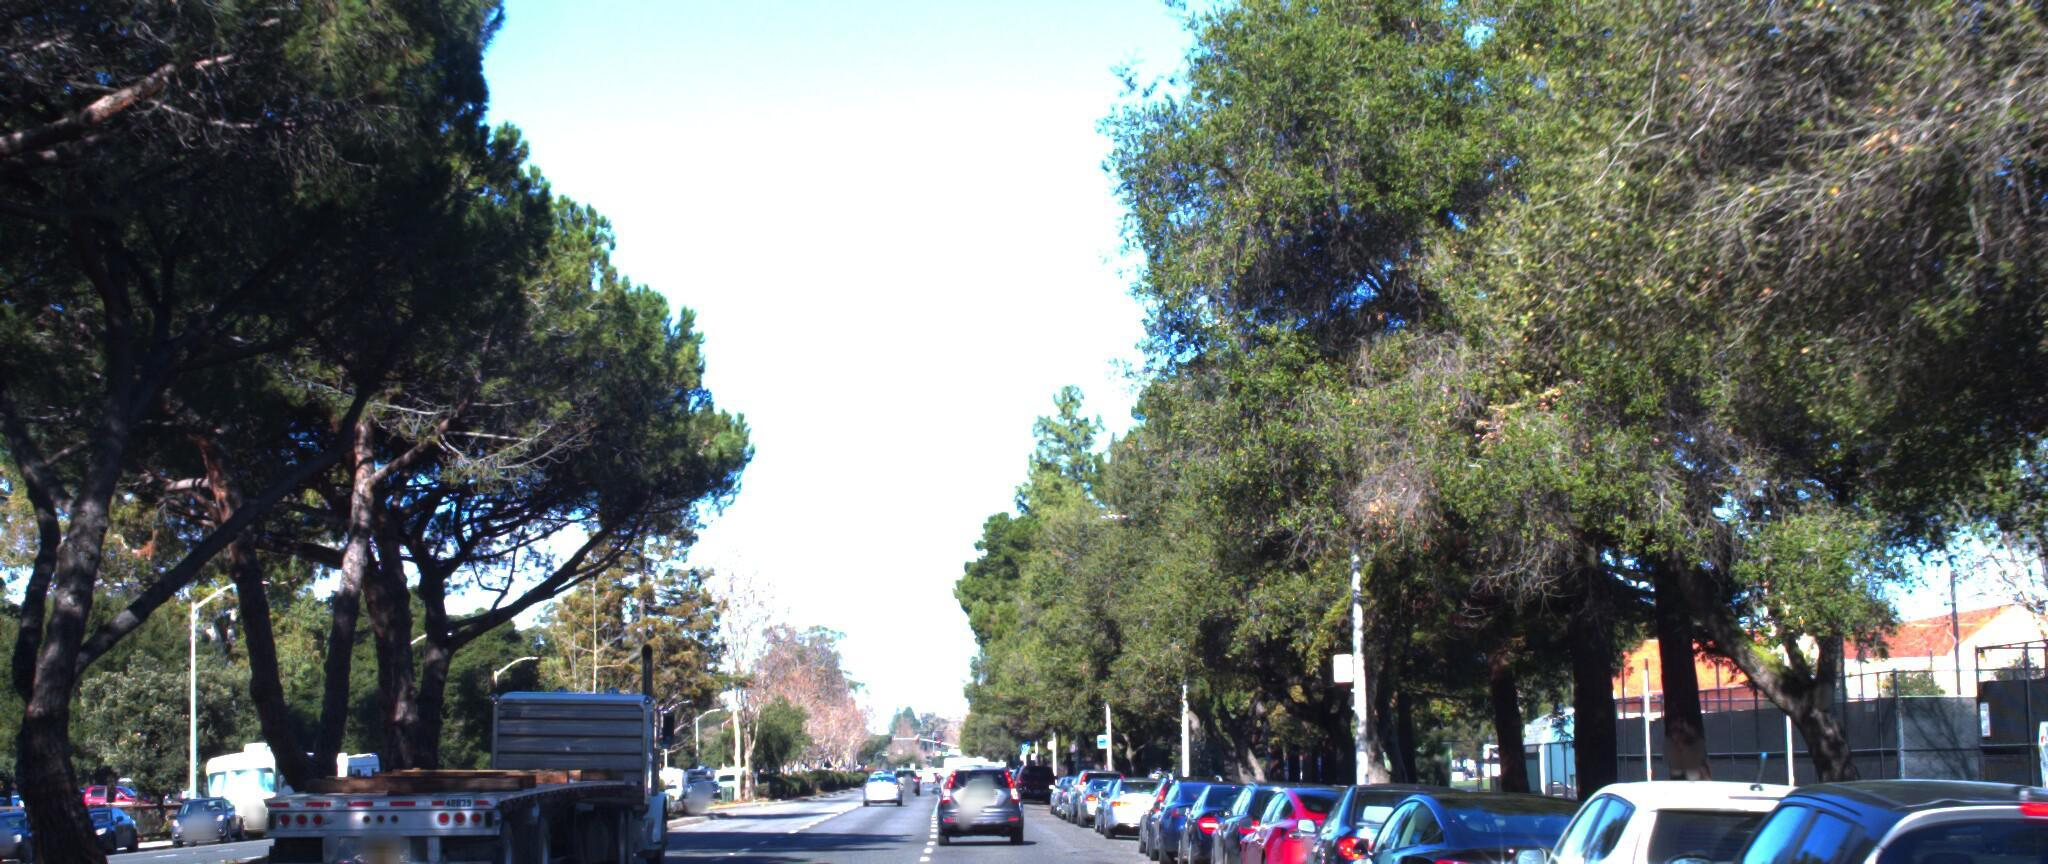car: (1450, 752, 1981, 864), (1576, 754, 2048, 864), (1297, 766, 1680, 864), (1280, 760, 1526, 864), (1225, 760, 1432, 864), (1970, 595, 2048, 864), (1196, 758, 1373, 864), (1168, 760, 1307, 864), (926, 739, 1025, 833), (1095, 756, 1183, 824)
truck: (252, 578, 705, 864)
